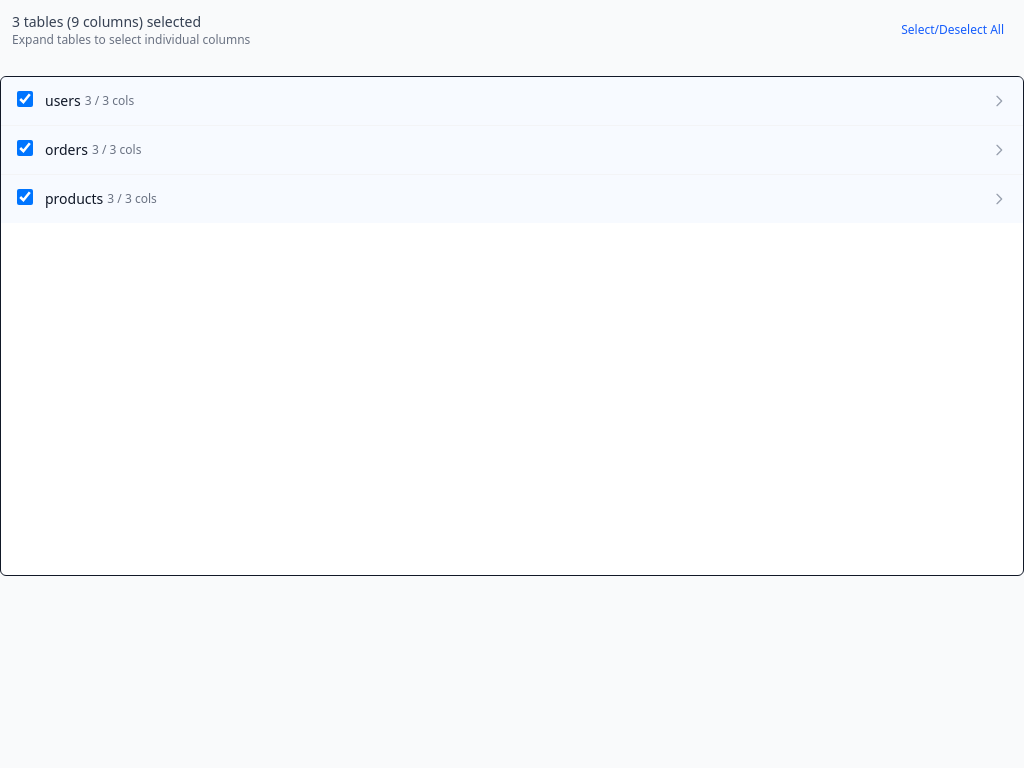
Test: SchemaSelector › Table Expansion › should expand table to show columns when clicked
The width and height of the screenshot is (1024, 768).
# Click to expand users table
What coordinates should you click on to do the following:
click the text "users"
I would click on:
 (63, 101)
Its box is [45,91,81,111].
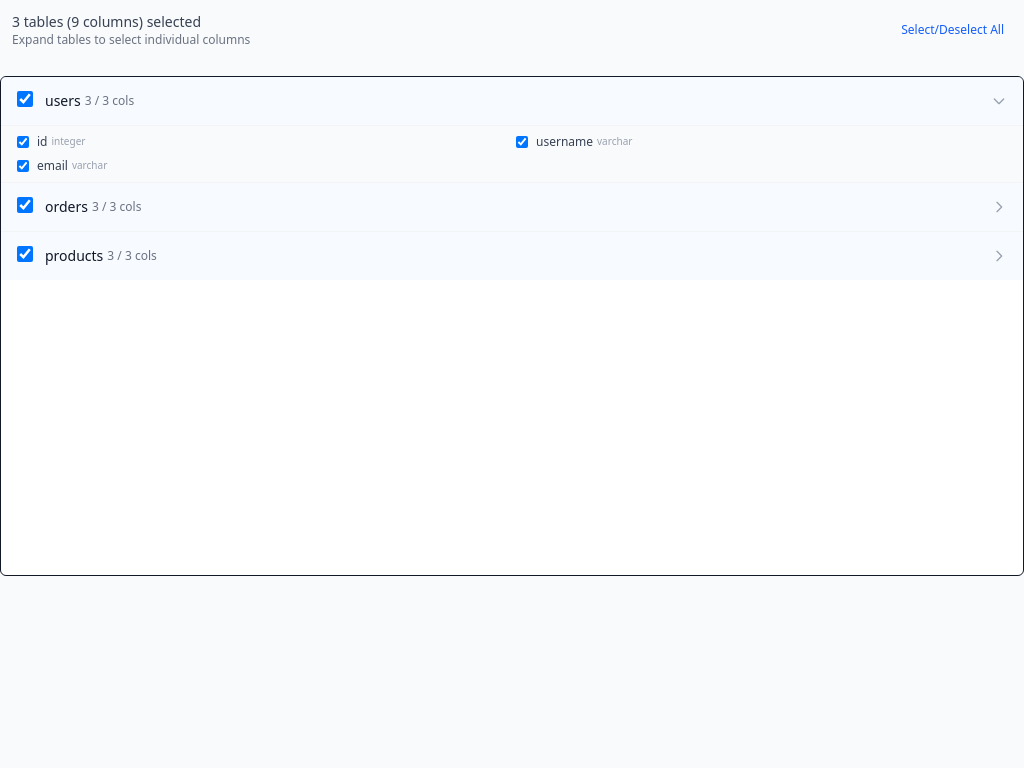
Check: the text "id" is shown, box [37,134,48,150]
Check: the text "username" is shown, box [536,134,593,150]
Check: the text "email" is shown, box [37,158,68,174]
